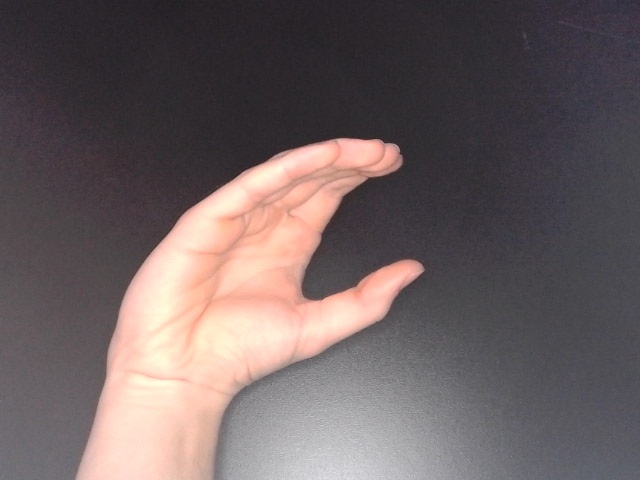c: (101, 133, 429, 417)
